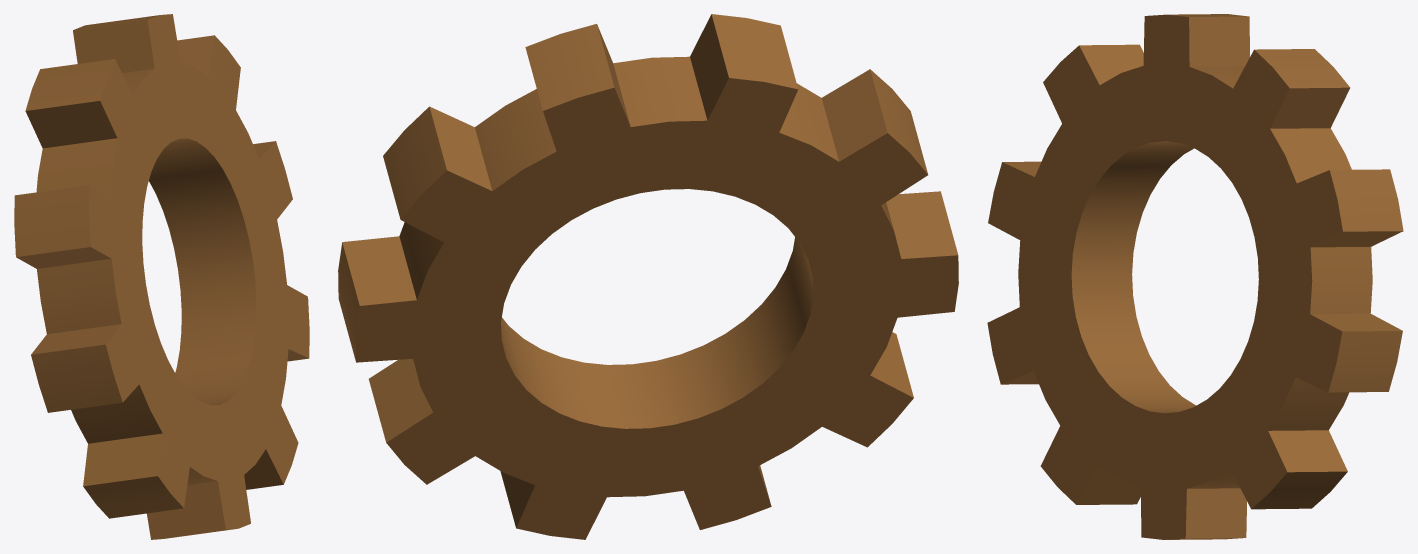
The model's file is quaternius-cyberpunk-collectible-gear.glb.
The picture shows the model from 3 angles, left to right: view 1: azimuth 30°, elevation 25°; view 2: azimuth 150°, elevation 25°; view 3: azimuth 270°, elevation 25°; orthographic projection. The views are drawn at different scales.
Visible parts, largest first — view 1: Collectible_Gear; view 2: Collectible_Gear; view 3: Collectible_Gear.
Boxes of the visible parts, box(x1,y1,x2,y2) form: Collectible_Gear: box(14, 14, 309, 539); Collectible_Gear: box(338, 14, 958, 539); Collectible_Gear: box(987, 14, 1403, 539).
Size of the model in its own units: 0.3511 by 0.3967 by 0.3182.
